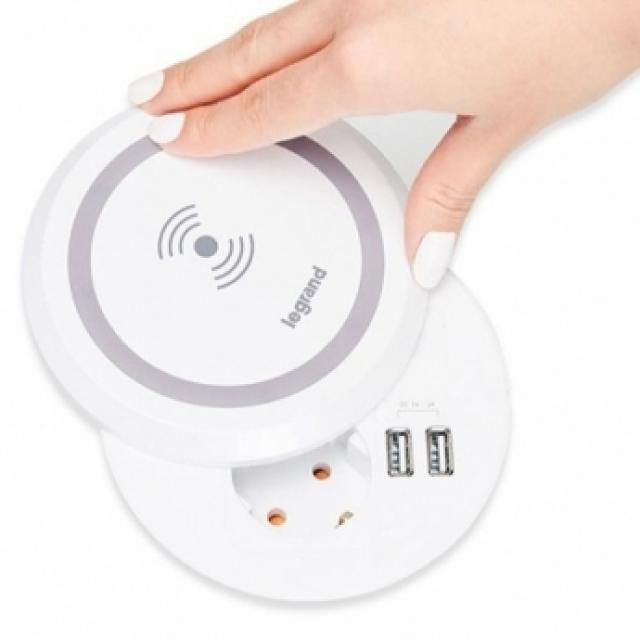typeb: (107, 361, 511, 590)
